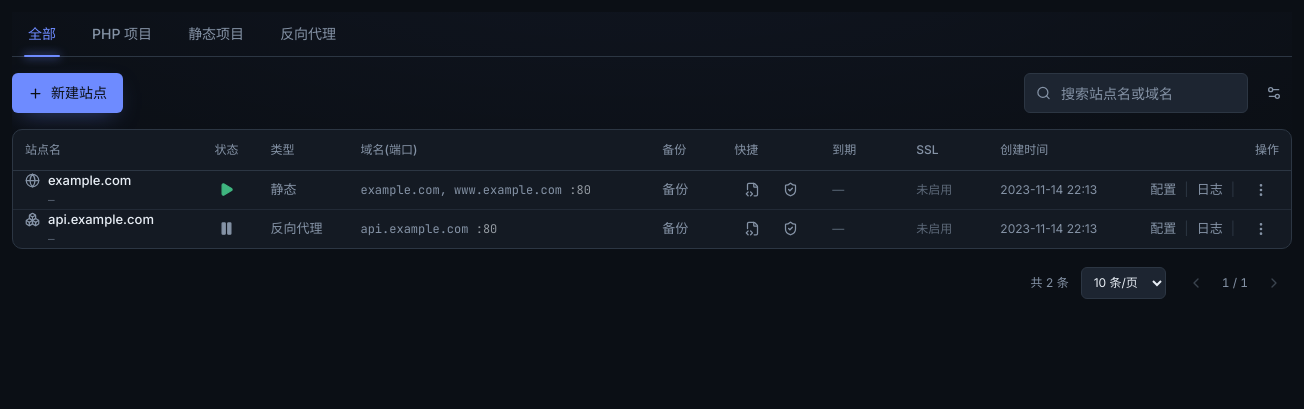
Test case: Sites list › lists sites and filters by kind
The width and height of the screenshot is (1304, 409).
Expected: the text "example.com" is shown, [48,170,131,190]
Expected: the text "api.example.com" is shown, [48,210,154,229]
Click the button "PHP 项目" at (122, 34), box [76,12,168,56]
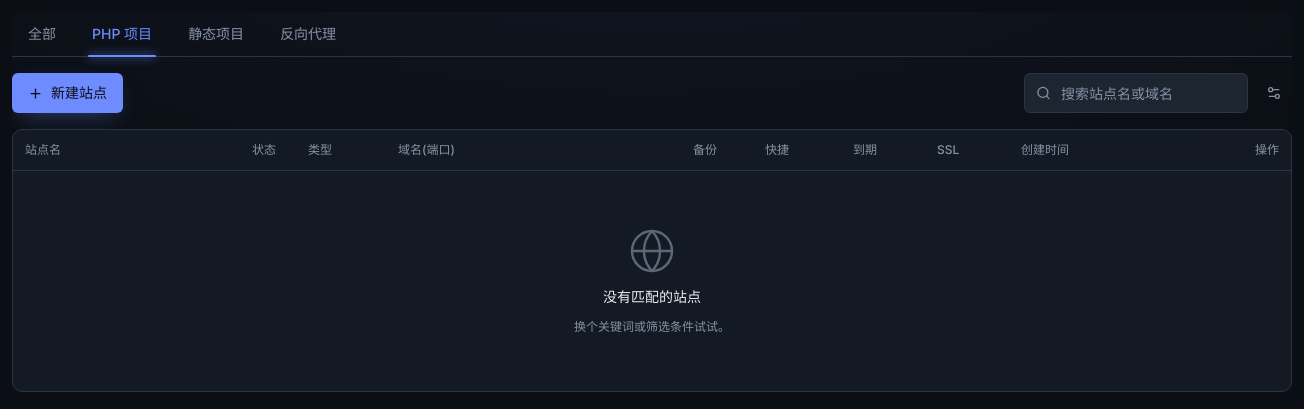
Expected: the text "没有匹配的站点" is shown, [603,286,701,306]
Expected: the button "example.com" is gone
